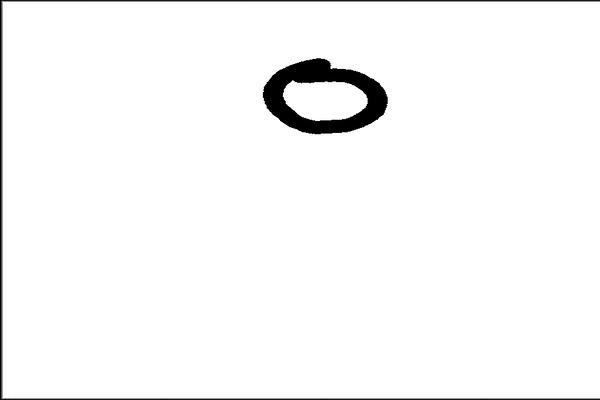O: (253, 49, 398, 144)
